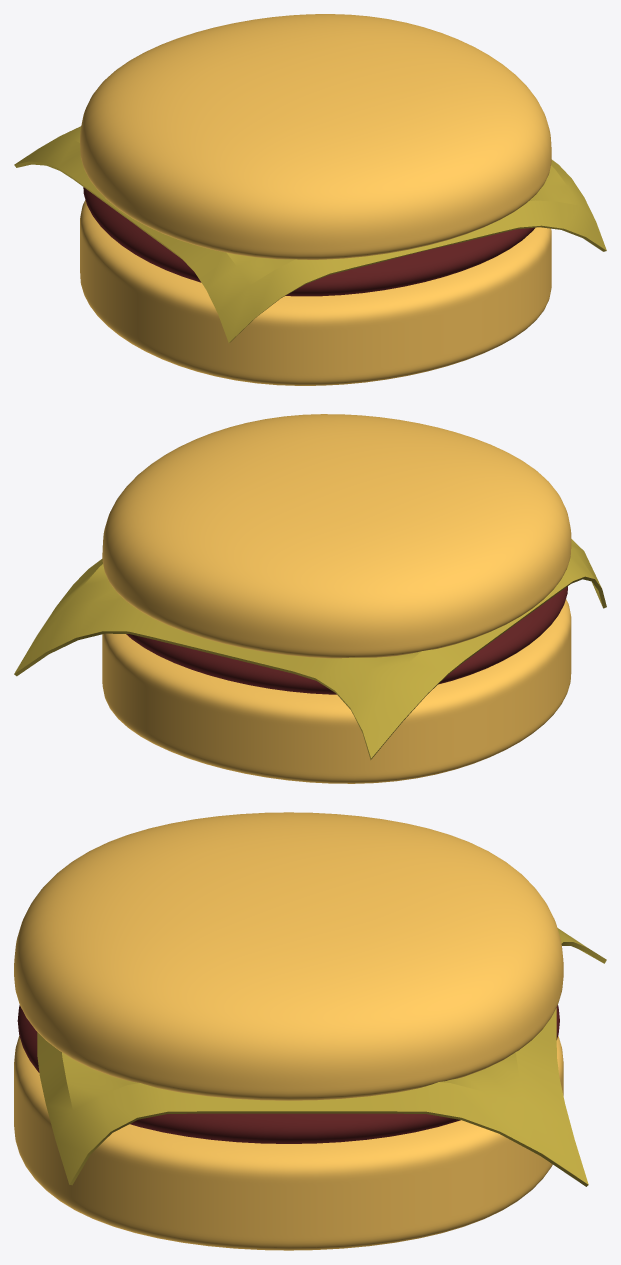
File: hamburger.glb
The picture shows the model from 3 angles, top to bottom: view 1: azimuth 30°, elevation 25°; view 2: azimuth 150°, elevation 25°; view 3: azimuth 270°, elevation 25°; orthographic projection. The views are drawn at different scales.
Visible parts, largest first — view 1: Cube.001, Cube.004, Plane, Cube.003; view 2: Cube.001, Cube.004, Plane, Cube.003; view 3: Cube.001, Cube.004, Plane, Cube.003.
Part boxes in pixels (x1,y1,x2,y2): Cube.001: (80,14,551,259); Cube.004: (80,200,551,385); Plane: (14,126,606,342); Cube.003: (83,187,534,296); Cube.001: (102,414,571,658); Cube.004: (102,599,571,783); Plane: (14,539,606,759); Cube.003: (126,586,567,694); Cube.001: (14,812,563,1100); Cube.004: (14,1036,563,1250); Plane: (37,928,606,1186); Cube.003: (17,1005,559,1143).
Size of the model in its own units: 9.14 by 4.9 by 9.86.
